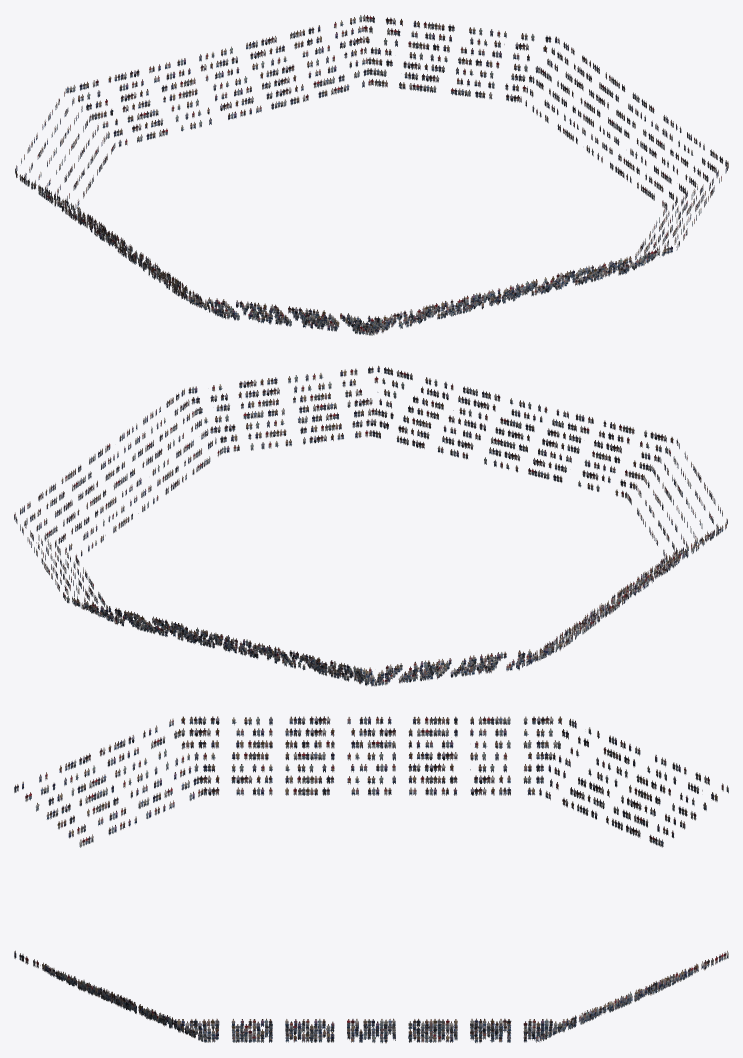
File: court_4_human2.obj
3 views of the same model, one above another, from view 1: azimuth 30°, elevation 25°; view 2: azimuth 150°, elevation 25°; view 3: azimuth 270°, elevation 25° (orthographic). The views are drawn at different scales.
Bounding box in the file's own units: 88.68 × 7.19 × 88.68.
1 material, 1 textured.
